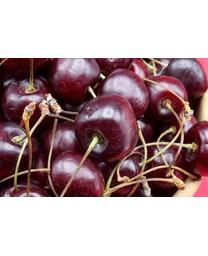cherry: (73, 95, 139, 162), (1, 74, 53, 131), (101, 68, 148, 118), (52, 150, 105, 194), (47, 57, 100, 101), (143, 74, 187, 121), (0, 122, 35, 180)
